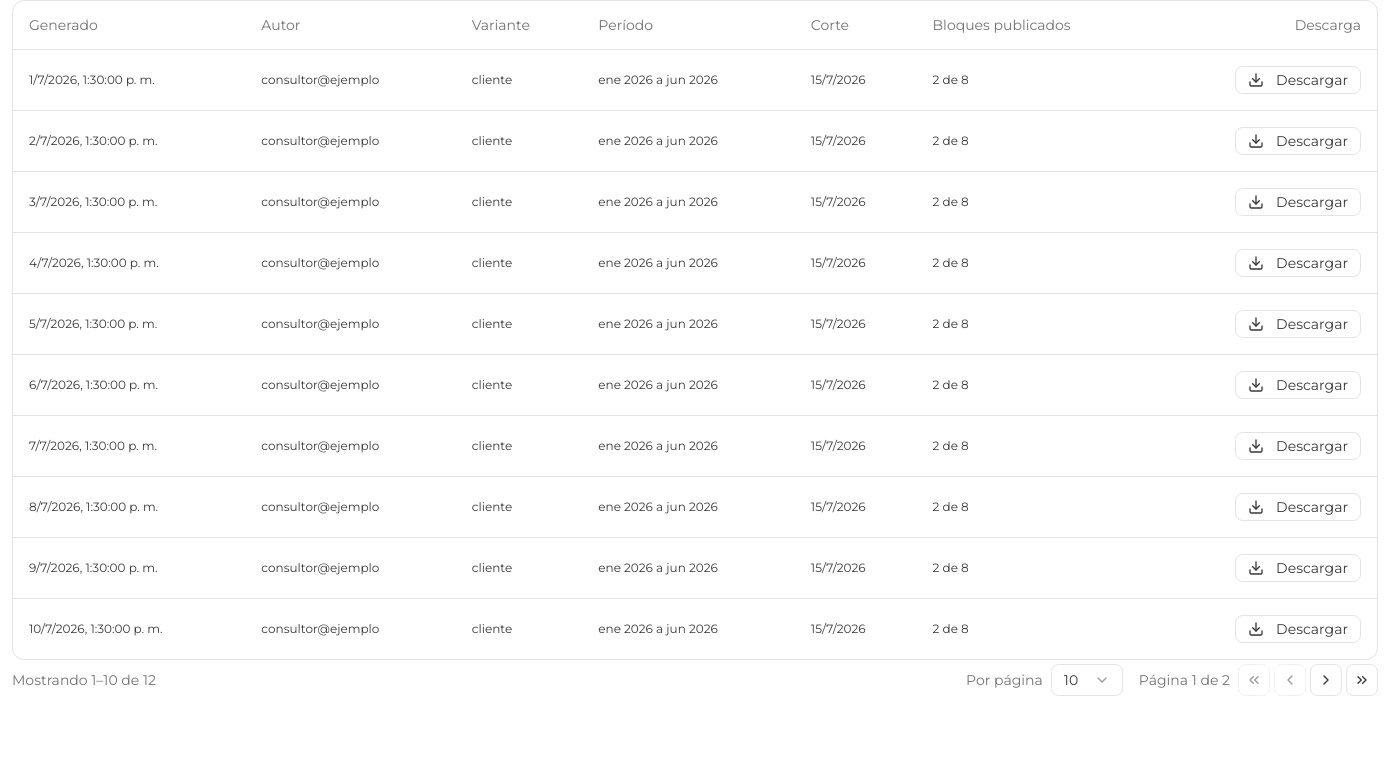
Test: TablaEntregas › pagina de diez en diez y conserva las reemisiones del mismo periodo
The image size is (1390, 768).
Expected: the text "Mostrando 1–10 de 12" is shown, [12,670,156,690]
Click the button named "Página siguiente": (1326, 680) [1310,664,1342,696]
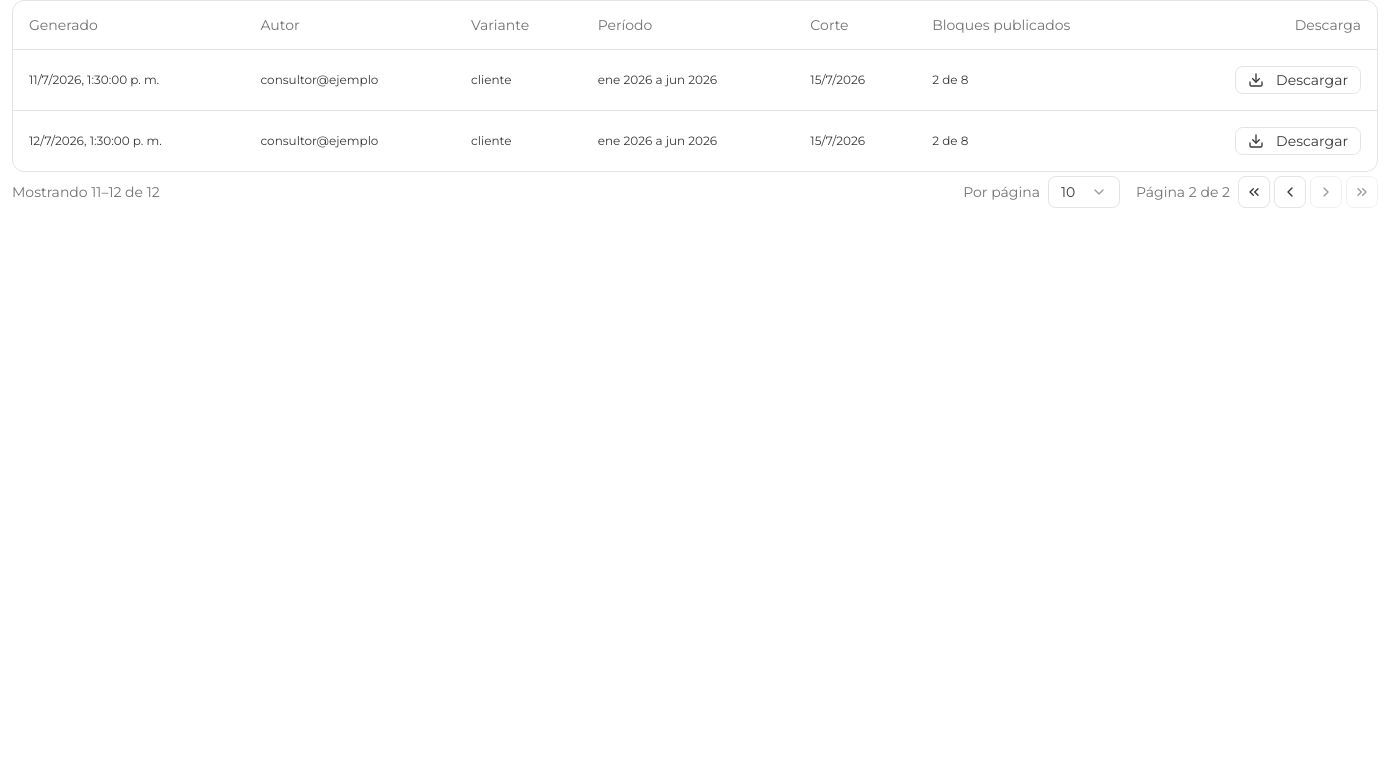
Now the number of buttons "Descargar" is 2, box [1235,66,1361,94]; [1235,126,1361,154]
